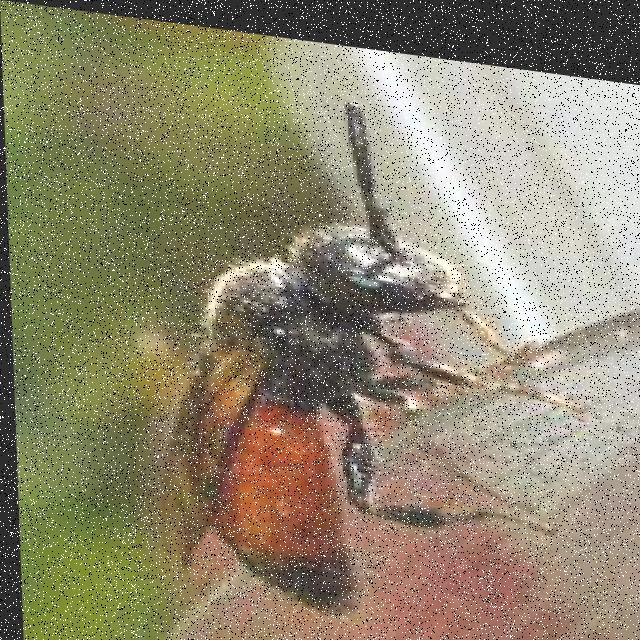Allodapula: (111, 58, 595, 640)
